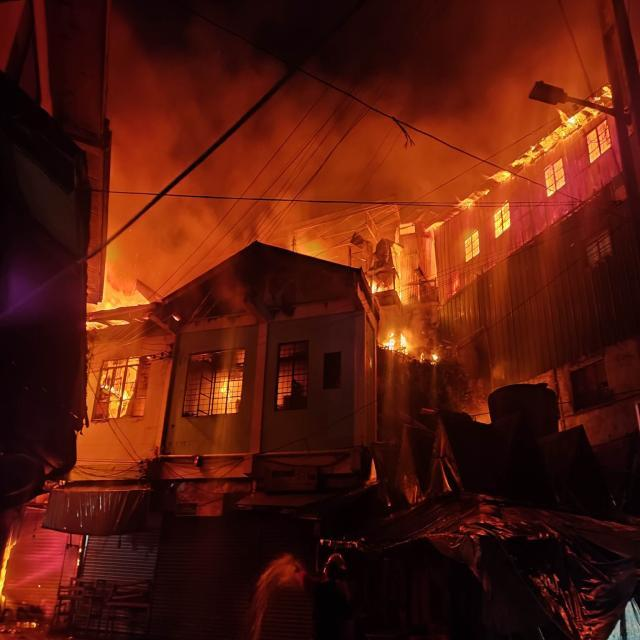Fire: (429, 94, 613, 262), (96, 274, 144, 326), (382, 326, 413, 355), (218, 378, 238, 412), (102, 381, 132, 402), (372, 280, 385, 296), (429, 352, 442, 359)
Smoke: (96, 102, 230, 296)
